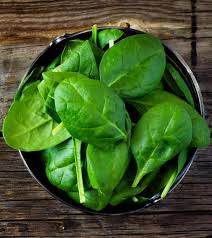spinach: (49, 54, 166, 176)
